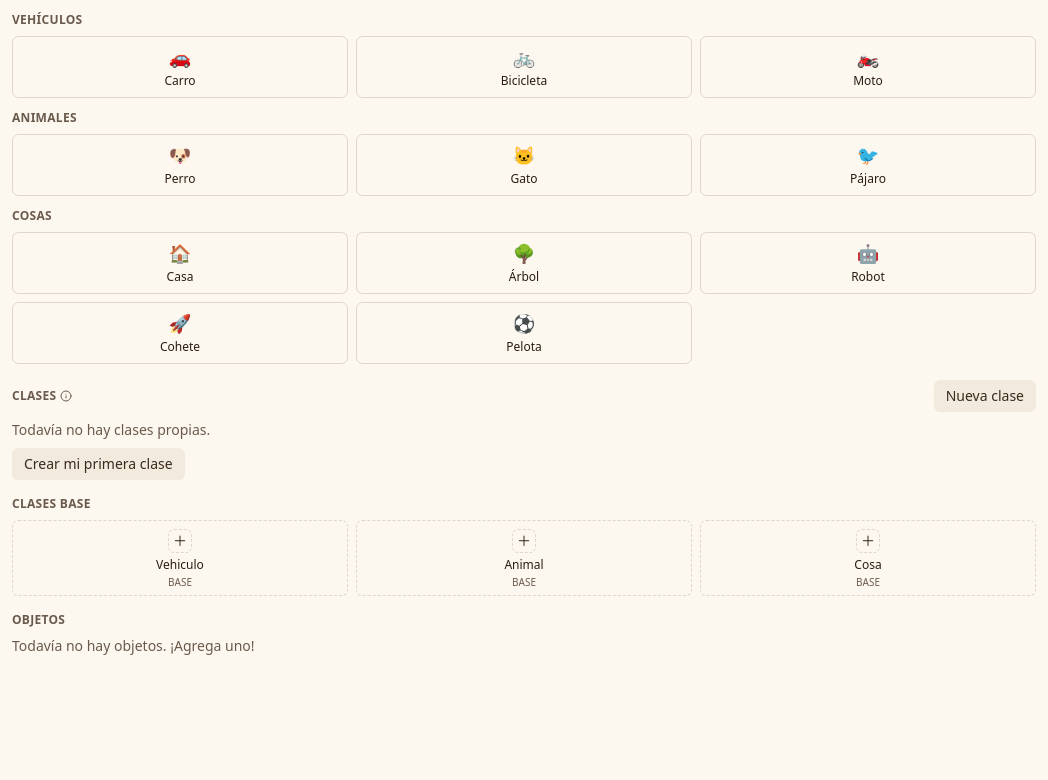
Test: FactoryView › adds a catalog object to the scene
Click the button with aria-label "Agregar Carro al escenario". click: (180, 67)
box: [12,36,348,98]
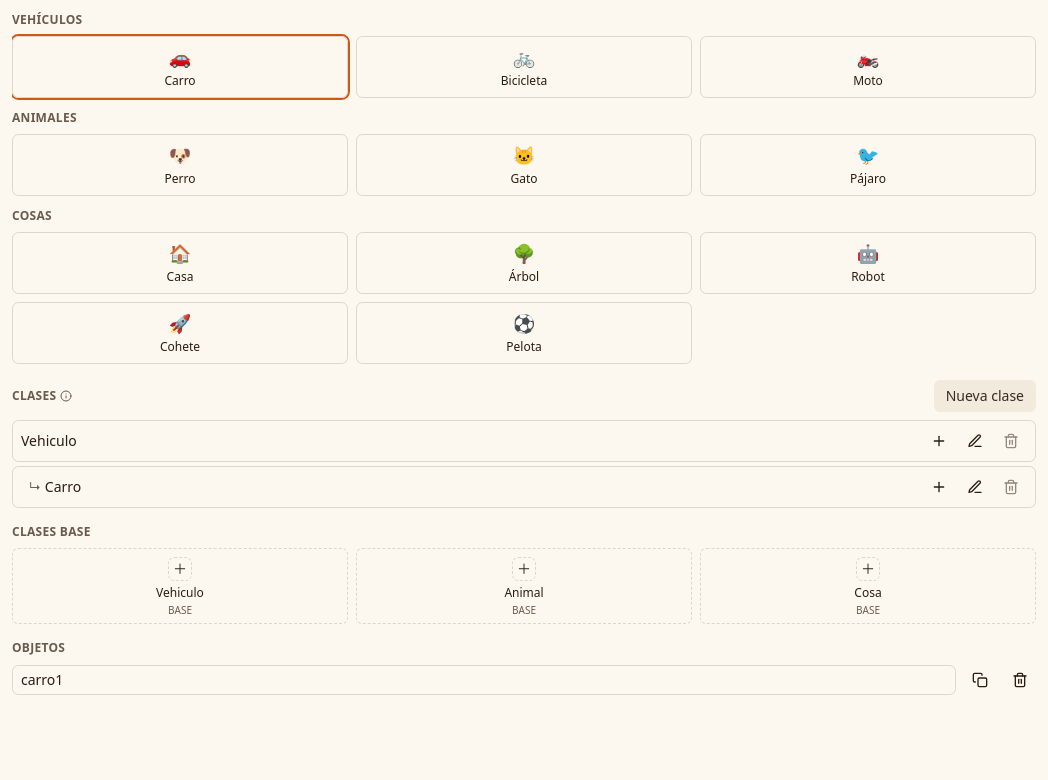
expect the button "carro1" is shown: met, box [12,665,956,695]
